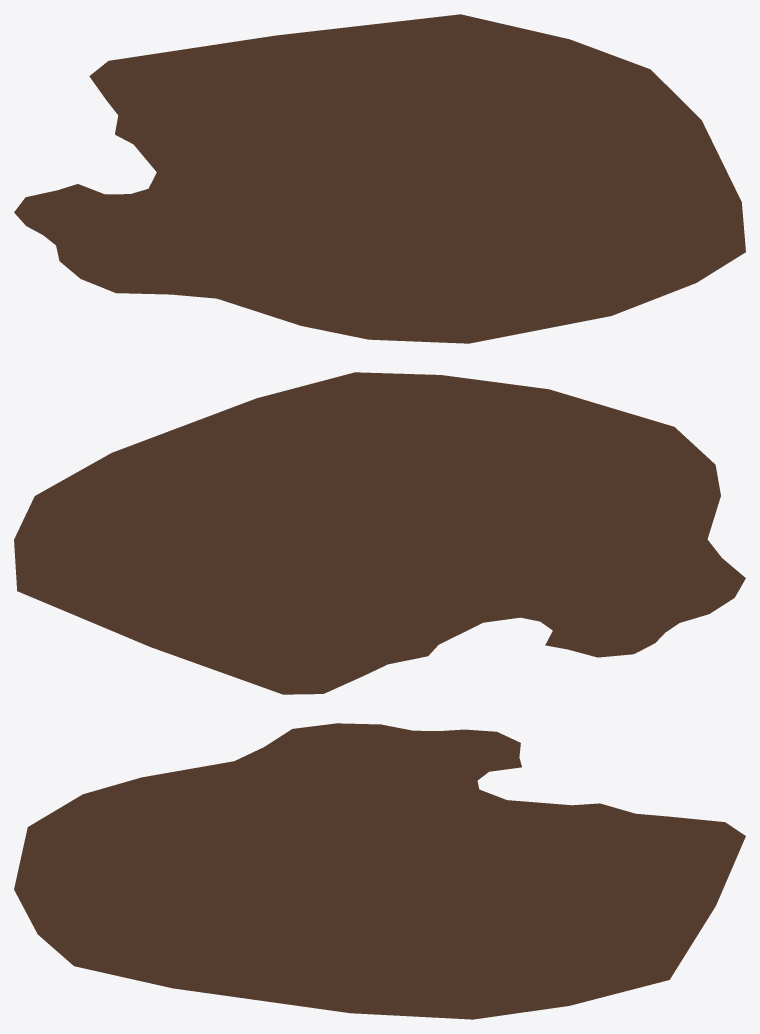
File: Chão Jogável2.fbx
The picture shows the model from 3 angles, top to bottom: view 1: azimuth 30°, elevation 25°; view 2: azimuth 150°, elevation 25°; view 3: azimuth 270°, elevation 25°; orthographic projection. The views are drawn at different scales.
Parts seen in each view (by area): view 1: Plane.002; view 2: Plane.002; view 3: Plane.002.
Part boxes in pixels (x1,y1,x2,y2): Plane.002: [14, 14, 745, 343]; Plane.002: [14, 372, 745, 694]; Plane.002: [14, 723, 745, 1019].
Bounding box in the file's own units: 6085 × 0.00104 × 6355.
